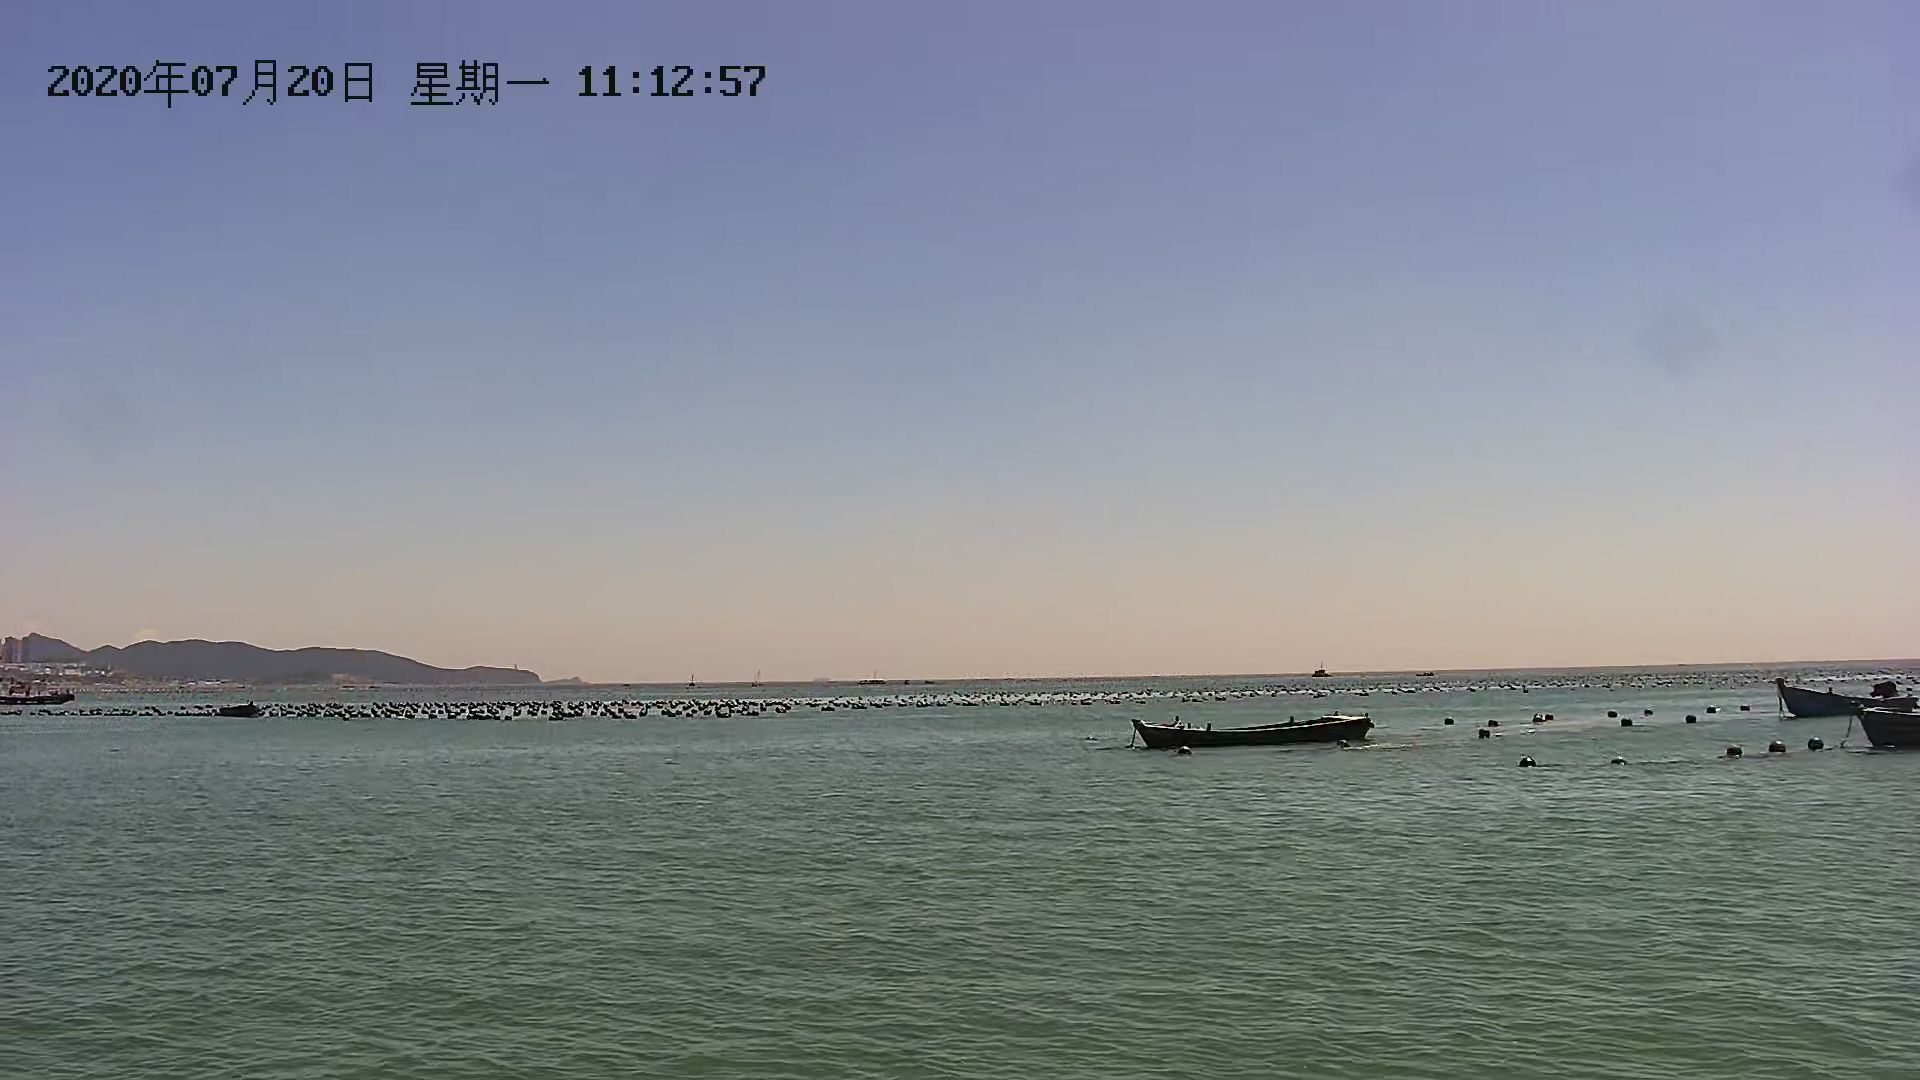ball: (1762, 736, 1792, 758), (1718, 742, 1747, 761), (1807, 731, 1826, 754), (1519, 750, 1545, 767), (1685, 716, 1704, 731), (1611, 756, 1633, 765)
boat: (1122, 709, 1375, 742), (1764, 669, 1920, 711), (1859, 712, 1920, 754), (218, 699, 266, 720)
